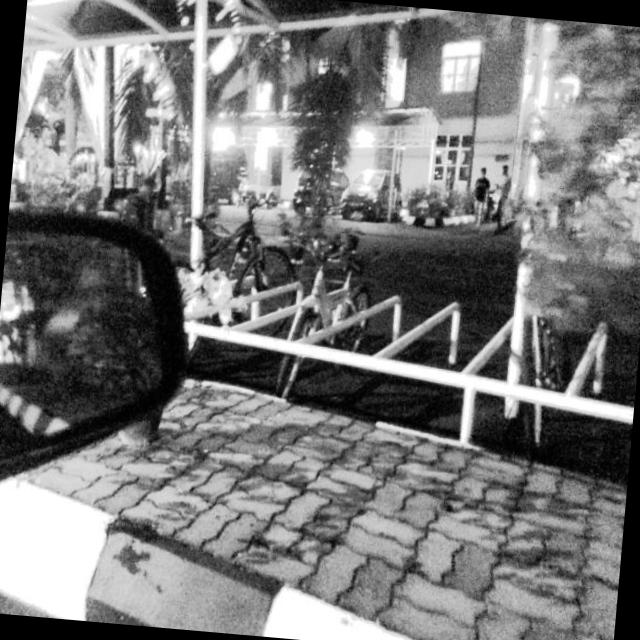Bicycle: (286, 220, 390, 391), (189, 198, 290, 336)
Car: (334, 142, 407, 243)
